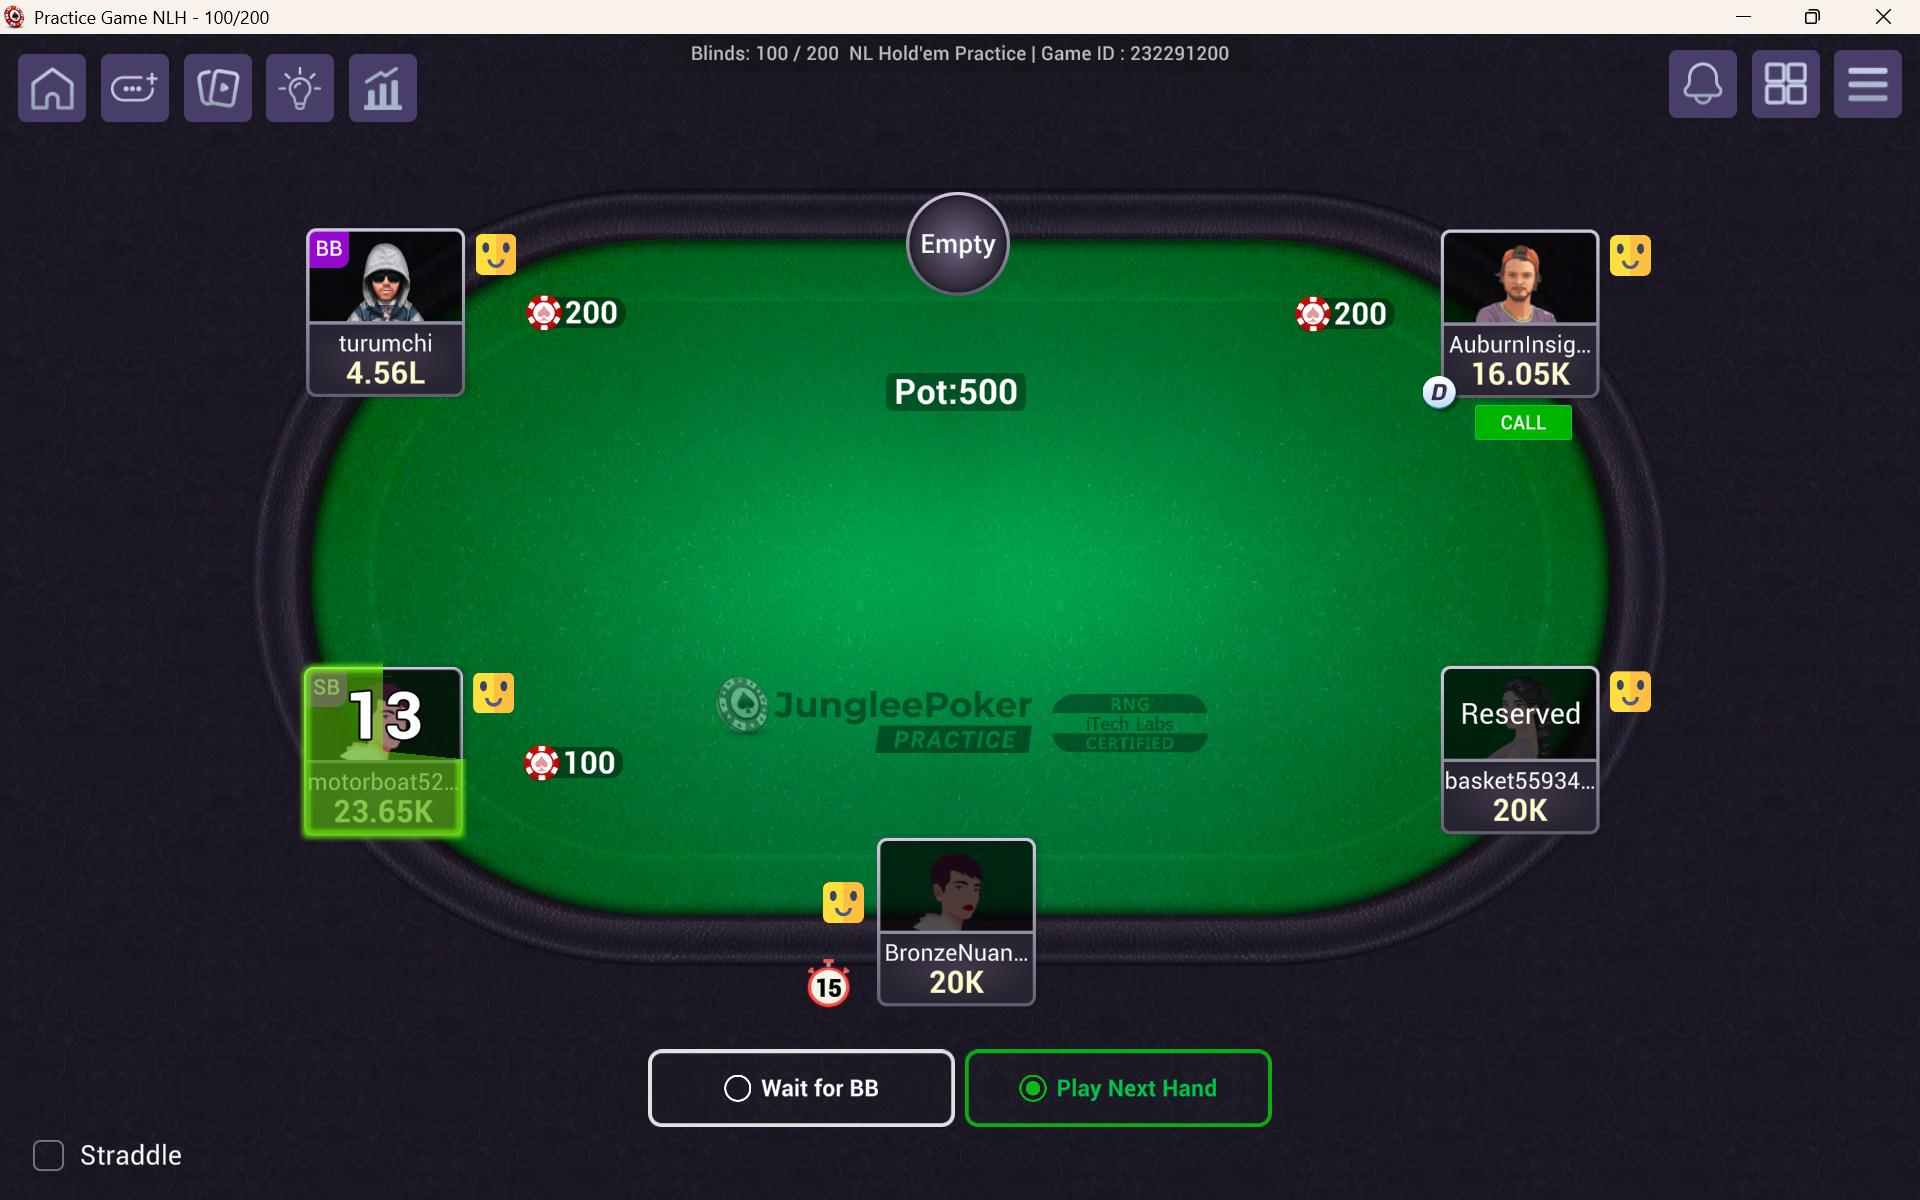my_stack: (902, 957, 1015, 998)
villian1_bet: (522, 740, 625, 782)
villian1_name: (310, 762, 462, 803)
villian1_stack: (328, 793, 442, 828)
villian2_bet: (520, 288, 630, 335)
villian2_name: (310, 322, 460, 358)
villian2_stack: (332, 360, 432, 395)
villian4_bet: (1288, 288, 1402, 338)
villian4_name: (1442, 325, 1595, 360)
villian4_stack: (1452, 352, 1595, 395)
villian5_name: (1448, 768, 1603, 798)
villian5_stack: (1485, 785, 1558, 828)
